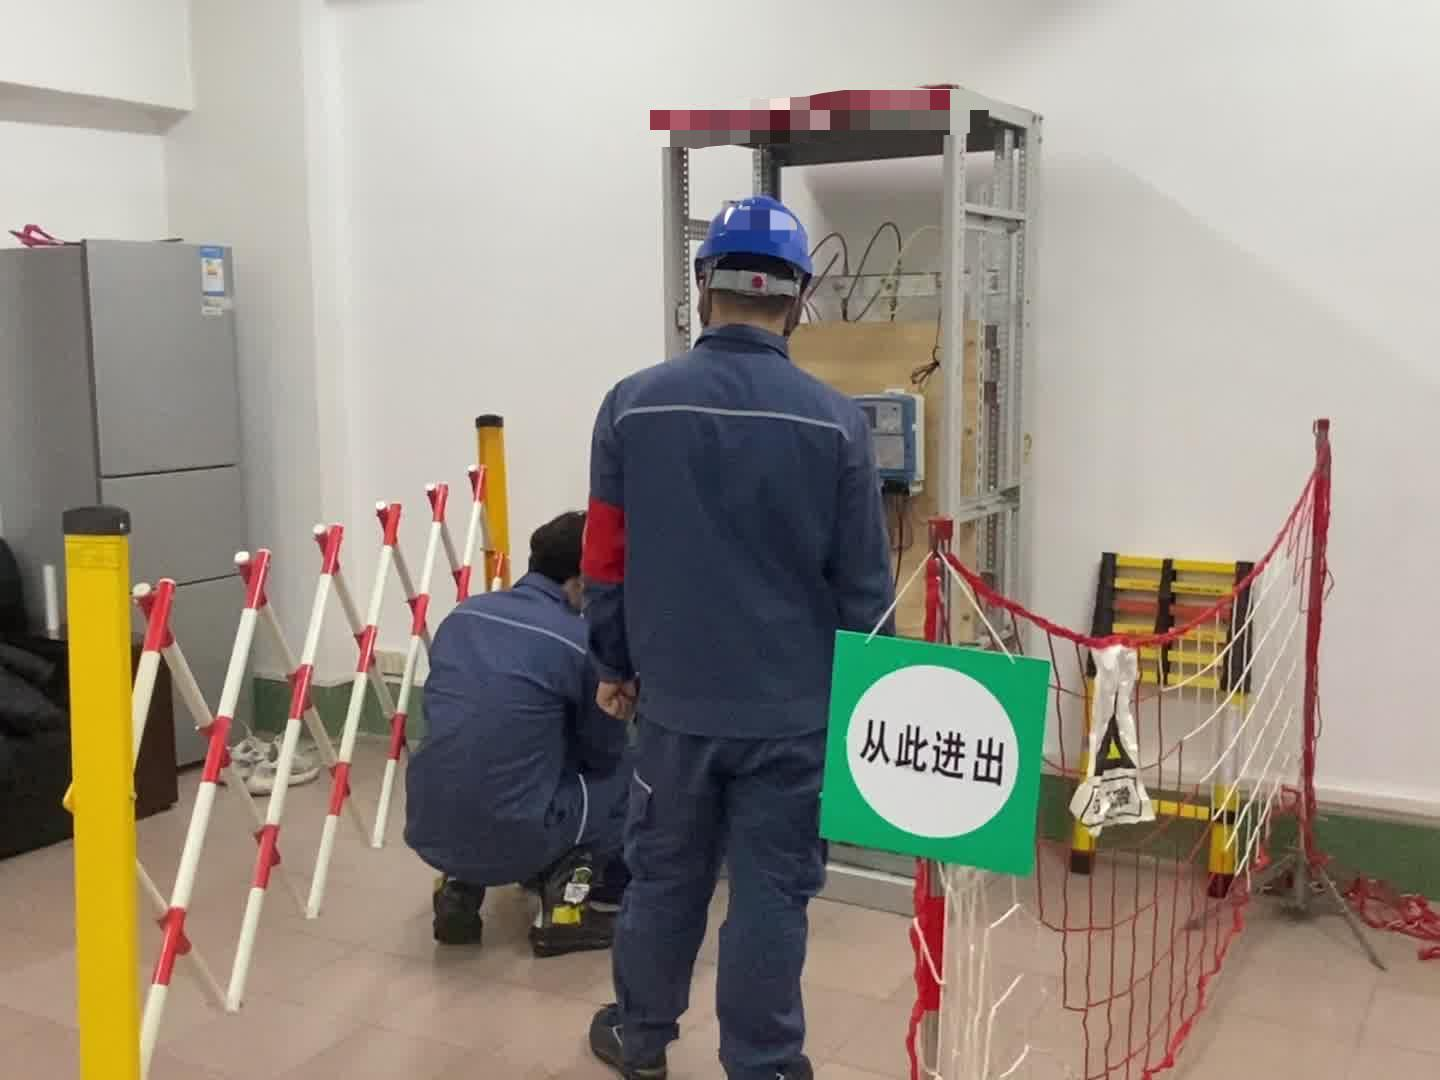halt: (693, 194, 821, 340)
unhalt: (528, 516, 588, 590)
